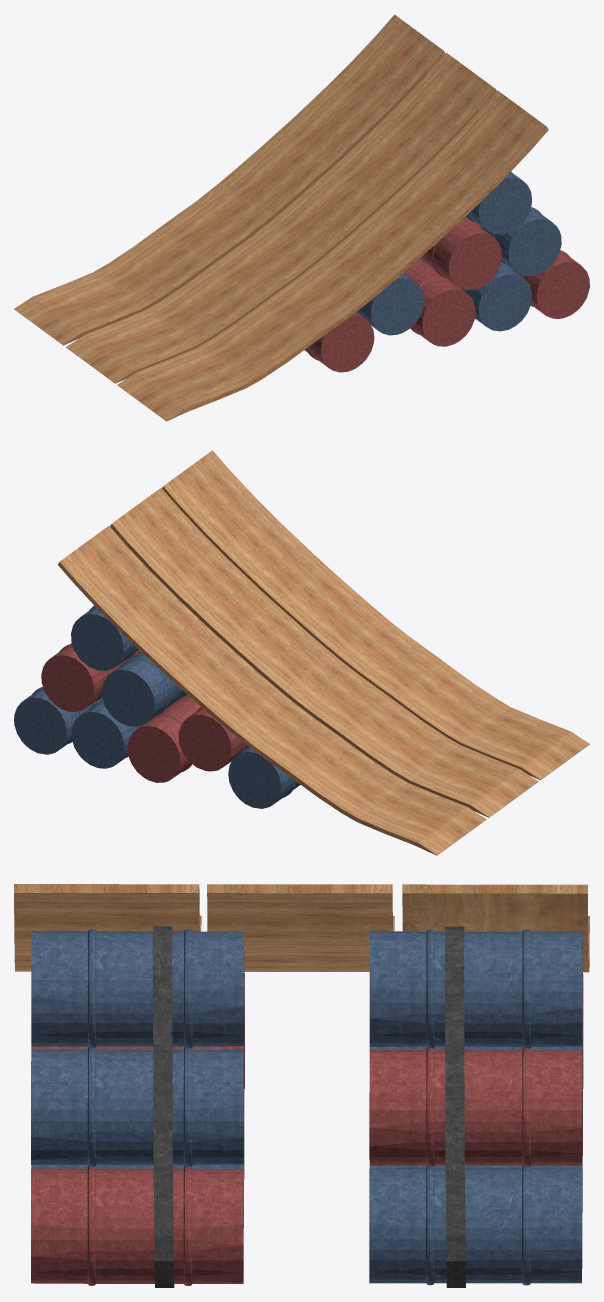
The model's file is Ramp 10.fbx.
3 renders of one model, top to bottom at view 1: azimuth 30°, elevation 25°; view 2: azimuth 150°, elevation 25°; view 3: azimuth 270°, elevation 25°, orthographic. The views are drawn at different scales.
Parts seen in each view (by area): view 1: Ramp, Barrels; view 2: Ramp, Barrels; view 3: Barrels, Ramp, Ropes.
Part boxes in pixels (x1,y1,x2,y2): Ramp: (14, 14, 548, 421); Barrels: (304, 171, 589, 372); Ramp: (58, 450, 589, 855); Barrels: (14, 606, 300, 808); Barrels: (31, 929, 583, 1285); Ramp: (14, 884, 589, 972); Ropes: (153, 926, 465, 1287).
Size of the model in its own units: 768 by 343 by 472.
